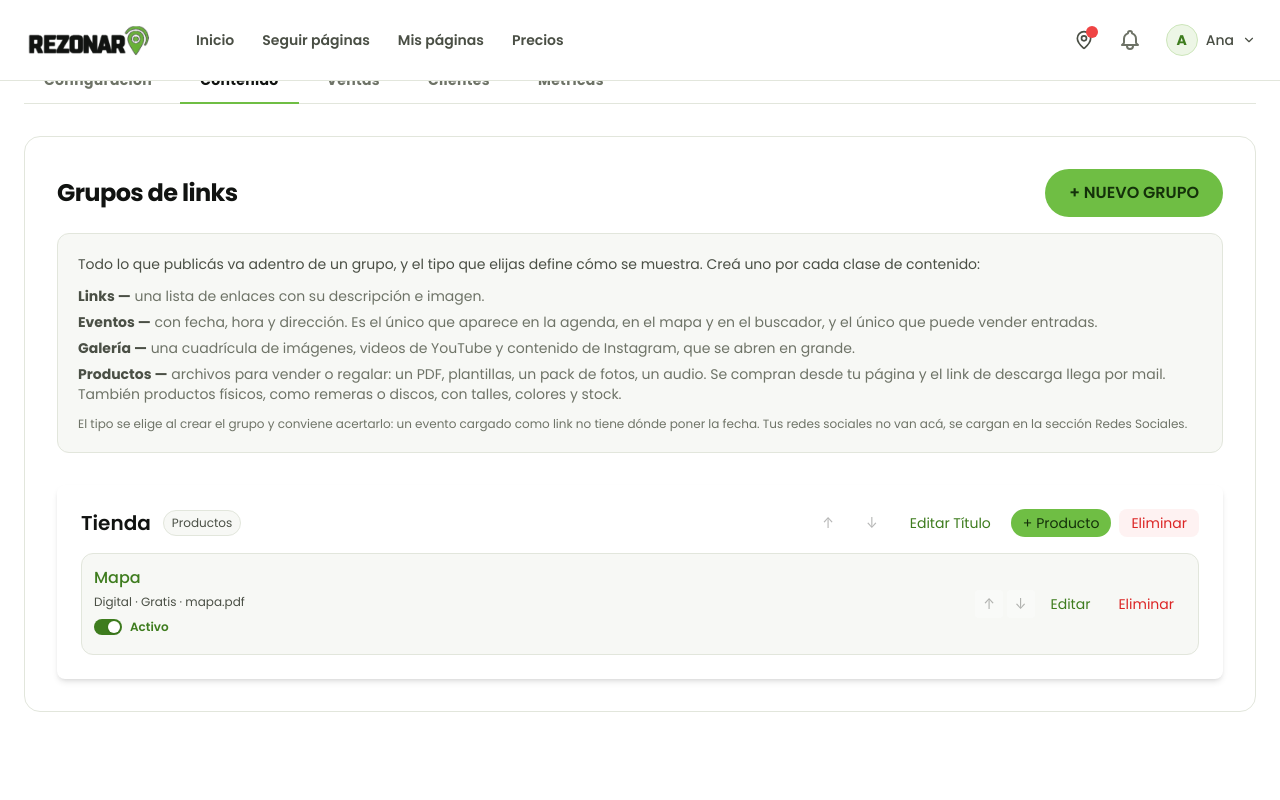
Test: PageEditor — productos digitales › grupo › el interruptor de la lista desactiva el producto sin entrar
(page scrolled)
Check: the heading "Grupos de links" is shown, box x1=57 y1=177 x2=238 y2=209
Click the switch named "Mapa: activo" at (131, 627), box x1=94 y1=619 x2=169 y2=635
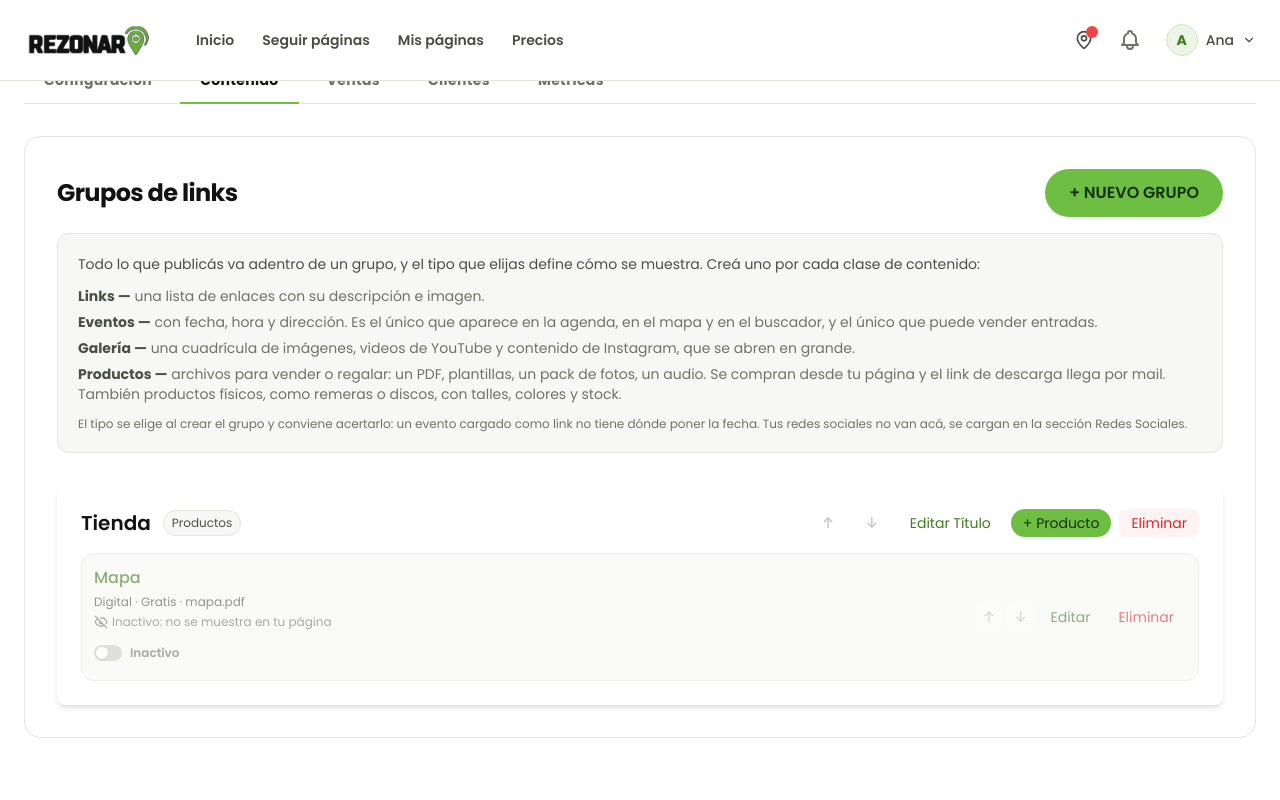
Check: the switch named "Mapa: activo" is not checked, box x1=94 y1=645 x2=180 y2=661
Check: the text "Inactivo: no se muestra en tu página" is shown, box x1=94 y1=614 x2=332 y2=630
